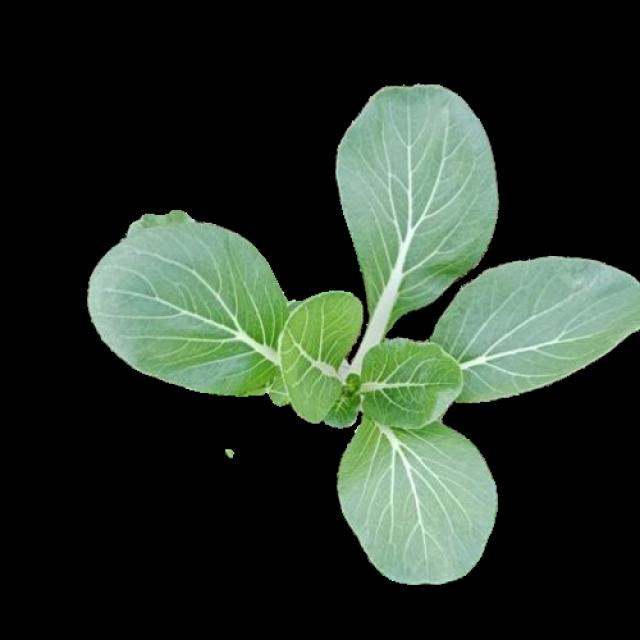healthy: (91, 81, 637, 574)
not-mature: (93, 83, 640, 576)
